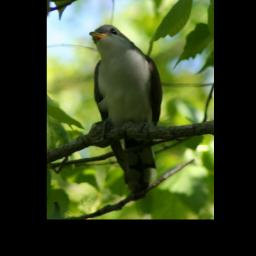Cuckoo: (89, 24, 164, 200)
